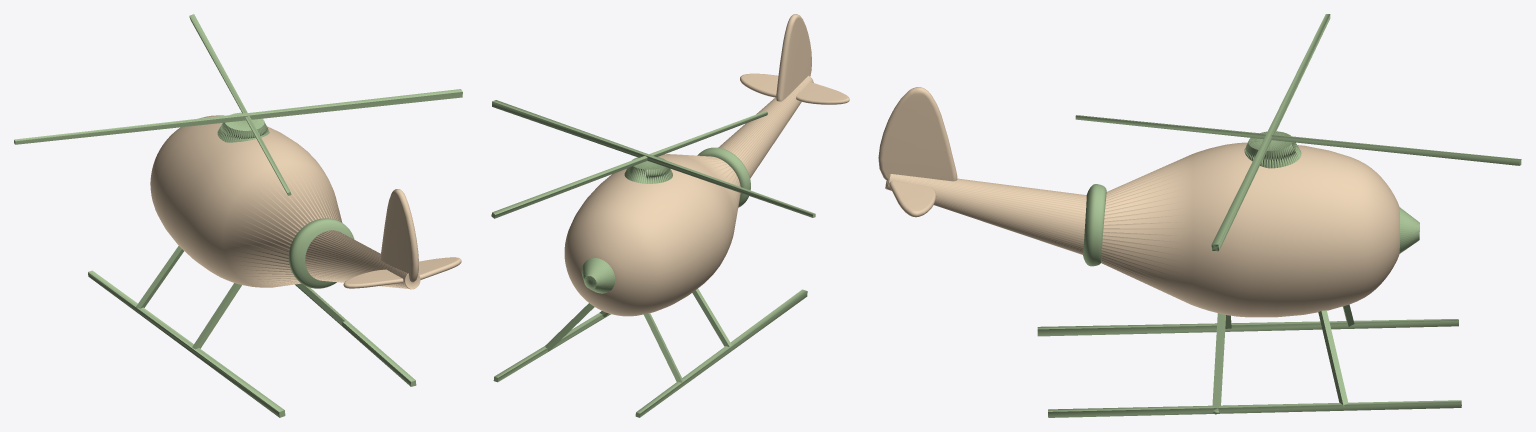
The model's file is Helicopter_dst.fbx.
3 views of the same model, side by side, from view 1: azimuth 30°, elevation 25°; view 2: azimuth 150°, elevation 25°; view 3: azimuth 270°, elevation 25° (orthographic). The views are drawn at different scales.
Parts seen in each view (by area): view 1: helicopter10; view 2: helicopter10; view 3: helicopter10.
Boxes of the visible parts, left/top/right/bottom form: helicopter10: left=14, top=14, right=462, bottom=417; helicopter10: left=491, top=14, right=849, bottom=417; helicopter10: left=878, top=14, right=1521, bottom=417.
Bounding box in the file's own units: 108 × 66.5 × 134.
